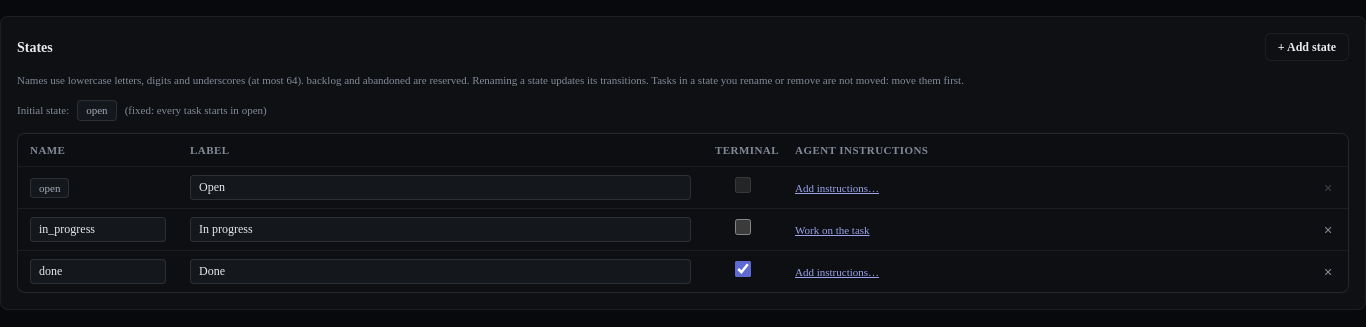
Test: StatesTable: focus after add and remove › removing a state moves focus to the name input of the row that took its place
The width and height of the screenshot is (1366, 327).
Click the 2nd button titled "Remove state in_progress".
click(1328, 230)  # box 1323,224 -> 1333,237
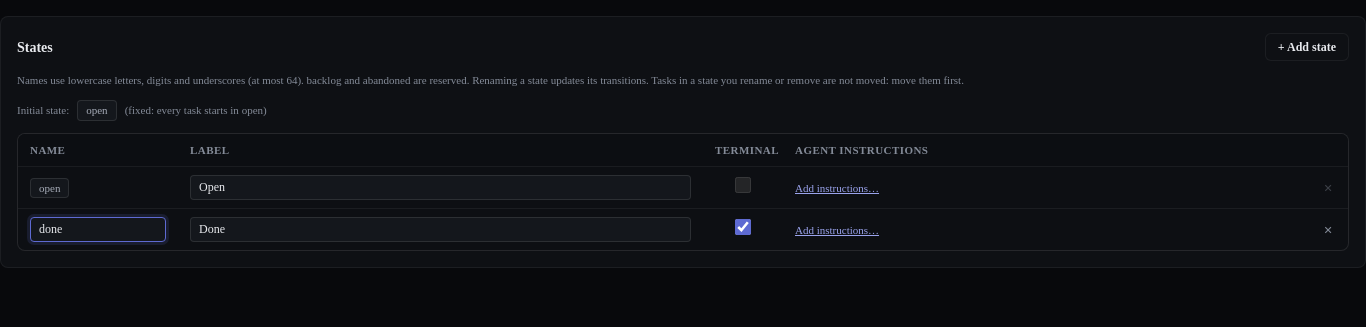
expect the field named "State name for row 2" holds "done": met, box 30,217 -> 166,242
